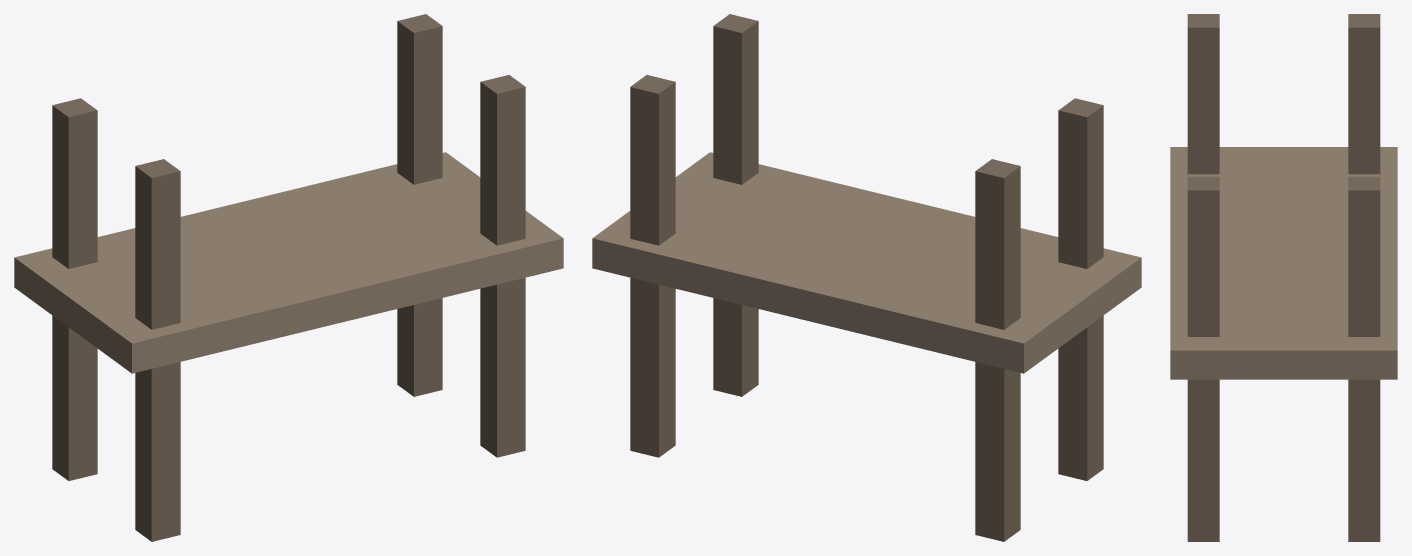
Rendered from wood_table.glb.
3 renders of one model, left to right at view 1: azimuth 30°, elevation 25°; view 2: azimuth 150°, elevation 25°; view 3: azimuth 270°, elevation 25°, orthographic. The views are drawn at different scales.
Visible parts, largest first — view 1: top_0, leg_2, leg_4, leg_1, leg_3; view 2: top_0, leg_1, leg_3, leg_2, leg_4; view 3: top_0, leg_3, leg_4, leg_1, leg_2.
Part boxes in pixels (left/top/right/bottom): top_0: left=14, top=152, right=563, bottom=373; leg_2: left=135, top=159, right=180, bottom=541; leg_4: left=480, top=75, right=525, bottom=457; leg_1: left=52, top=98, right=97, bottom=480; leg_3: left=397, top=14, right=442, bottom=396; top_0: left=592, top=152, right=1141, bottom=373; leg_1: left=975, top=159, right=1020, bottom=541; leg_3: left=630, top=75, right=675, bottom=457; leg_2: left=1058, top=98, right=1103, bottom=480; leg_4: left=713, top=14, right=758, bottom=396; top_0: left=1170, top=147, right=1397, bottom=379; leg_3: left=1348, top=176, right=1380, bottom=541; leg_4: left=1187, top=176, right=1219, bottom=541; leg_1: left=1348, top=14, right=1380, bottom=174; leg_2: left=1187, top=14, right=1219, bottom=174.
Bounding box in the file's own units: 1.8 × 1.45 × 0.85.
